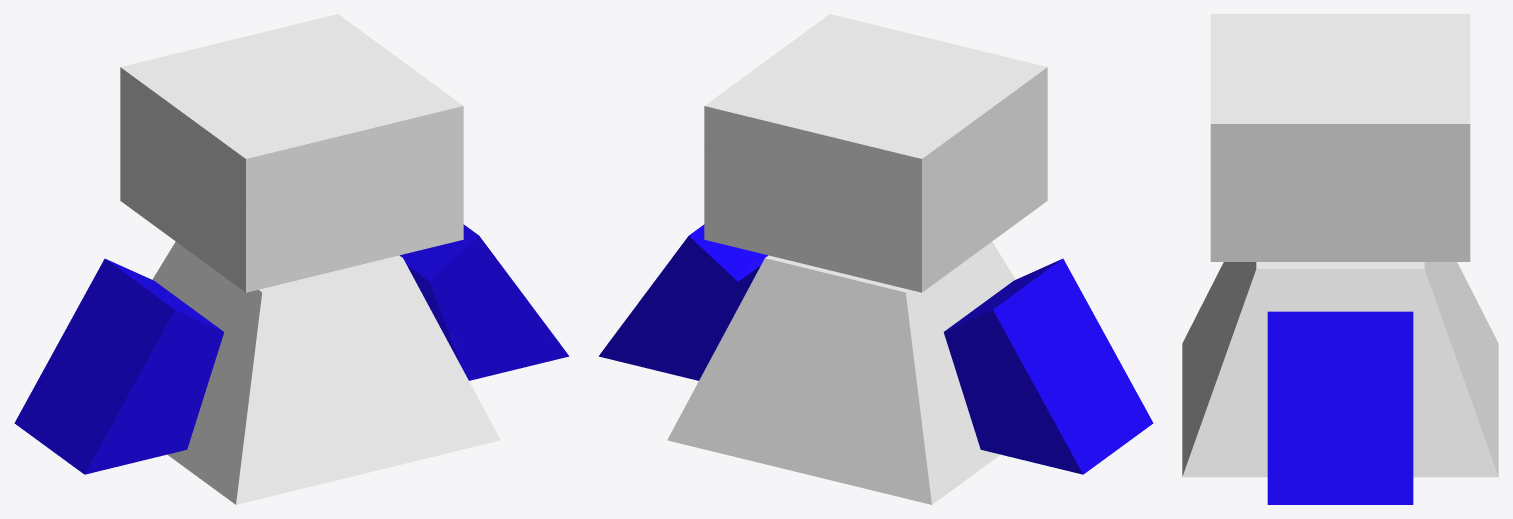
File: Unit.obj
3 views of the same model, side by side, from view 1: azimuth 30°, elevation 25°; view 2: azimuth 150°, elevation 25°; view 3: azimuth 270°, elevation 25° (orthographic). The views are drawn at different scales.
Parts seen in each view (by area): view 1: 立方体, 立方体.001_立方体.003, 立方体.002_立方体.004, 立方体.003_立方体.001; view 2: 立方体, 立方体.001_立方体.003, 立方体.002_立方体.004, 立方体.003_立方体.001; view 3: 立方体, 立方体.001_立方体.003, 立方体.003_立方体.001.
Part boxes in pixels (x1=…): 立方体: x1=120, y1=14, x2=463, y2=292; 立方体.001_立方体.003: x1=152, y1=241, x2=500, y2=504; 立方体.002_立方体.004: x1=14, y1=258, x2=224, y2=474; 立方体.003_立方体.001: x1=399, y1=224, x2=569, y2=380; 立方体: x1=704, y1=14, x2=1047, y2=292; 立方体.001_立方体.003: x1=667, y1=241, x2=1015, y2=504; 立方体.002_立方体.004: x1=943, y1=258, x2=1153, y2=474; 立方体.003_立方体.001: x1=598, y1=224, x2=768, y2=380; 立方体: x1=1210, y1=14, x2=1470, y2=261; 立方体.001_立方体.003: x1=1182, y1=262, x2=1498, y2=477; 立方体.003_立方体.001: x1=1267, y1=311, x2=1413, y2=504.
Size of the model in its own units: 2.28 by 1.48 by 1.24.
Materials: 4 (4 with a texture image).
